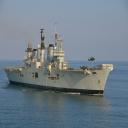Portanaves: (4, 22, 116, 98)
